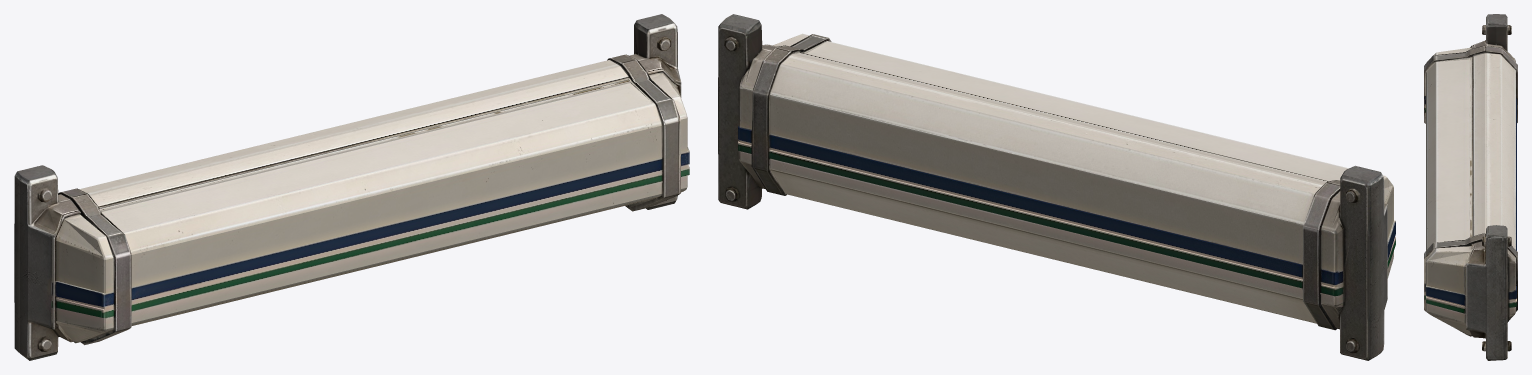
The model's file is torch.fbx.
3 renders of one model, left to right at view 1: azimuth 30°, elevation 25°; view 2: azimuth 150°, elevation 25°; view 3: azimuth 270°, elevation 25°, orthographic. The views are drawn at different scales.
Visible parts, largest first — view 1: torch; view 2: torch; view 3: torch.
Part boxes in pixels (bbox=[...]): torch: bbox=[14, 14, 689, 360]; torch: bbox=[718, 14, 1395, 360]; torch: bbox=[1424, 14, 1517, 360].
Size of the model in its own units: 1.64 by 0.4333 by 0.292.
1 material, 1 textured.
